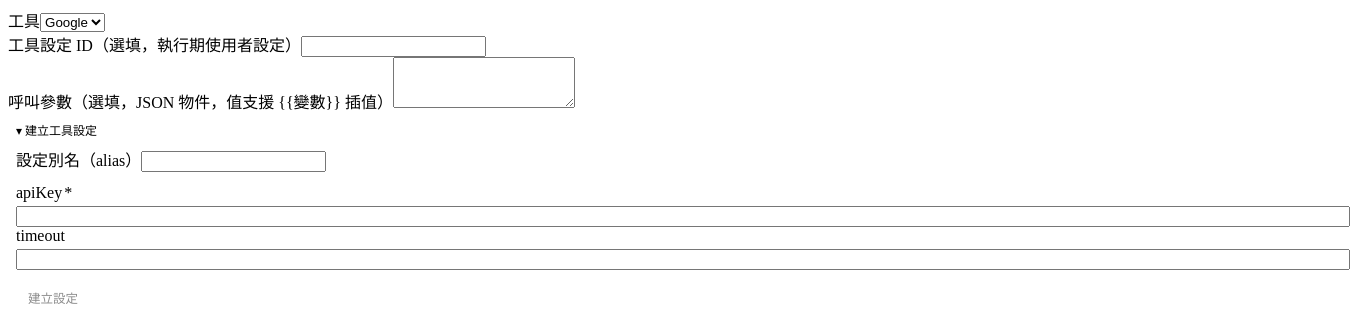
ToolForm › 工具設定建立區塊 › 點擊摺疊標題可收合與展開表單主體
Expected: the button with test id "setting-create" is shown, [16,282,90,313]
Click the button with test id "setting-toggle" at (57, 131), box [16,121,1350,139]
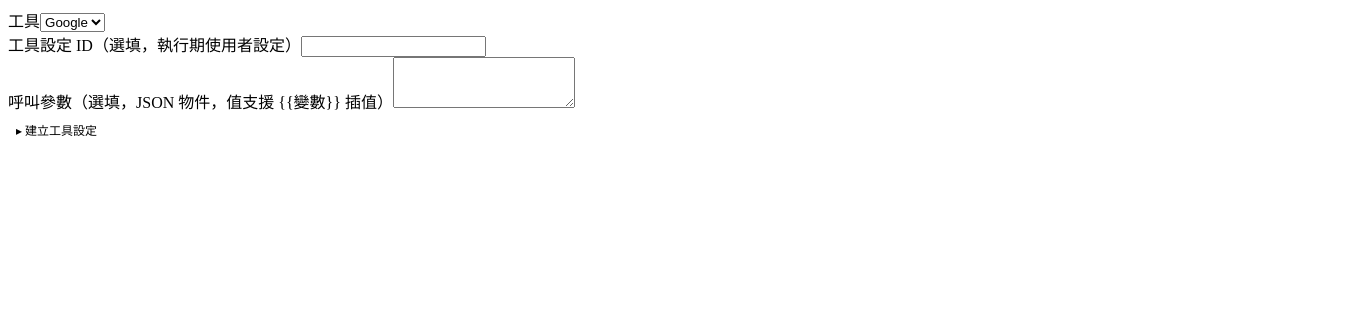
Click the button with test id "setting-toggle" at (57, 131), box [16,121,1350,139]
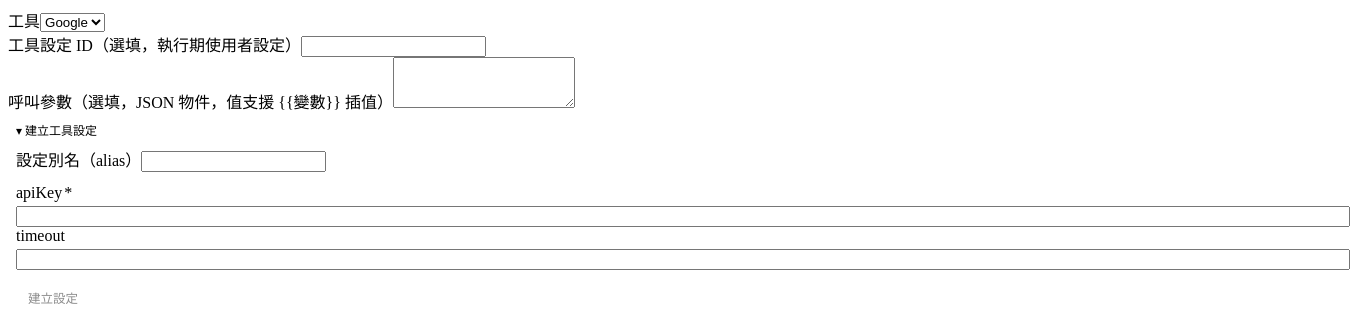
Expected: the button with test id "setting-create" is shown, [16,282,90,313]
